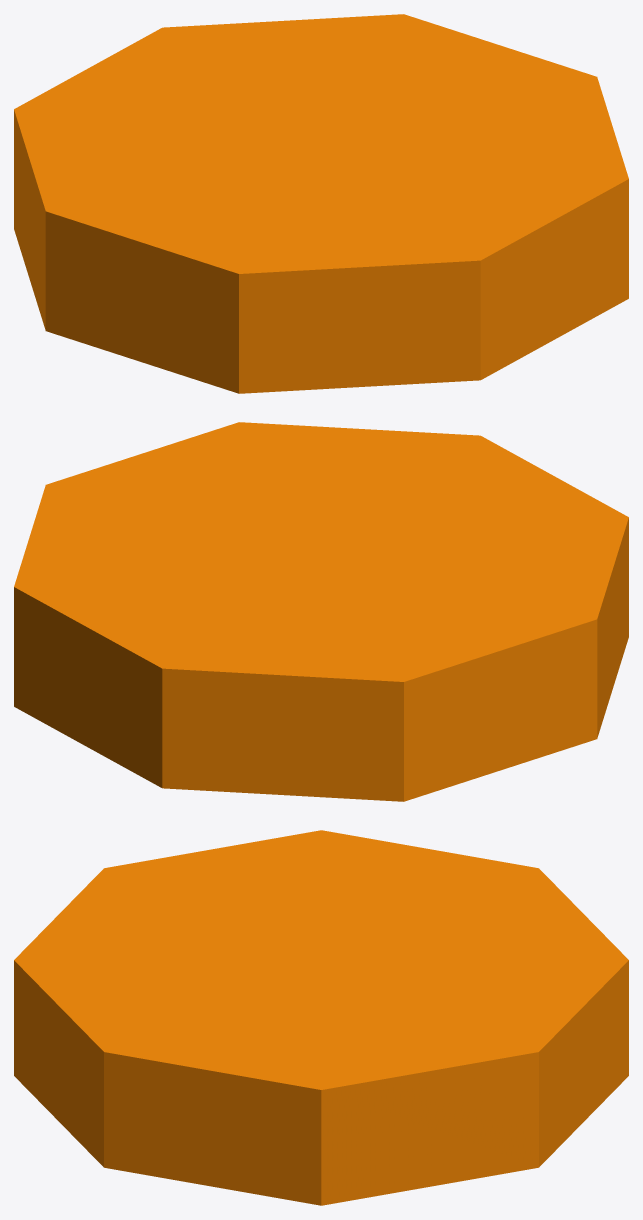
Rendered from carrot02.gltf.
The picture shows the model from 3 angles, top to bottom: view 1: azimuth 30°, elevation 25°; view 2: azimuth 150°, elevation 25°; view 3: azimuth 270°, elevation 25°; orthographic projection. The views are drawn at different scales.
Visible parts, largest first — view 1: Cylinder; view 2: Cylinder; view 3: Cylinder.
Part boxes in pixels (x1=…): Cylinder: x1=14, y1=14, x2=628, y2=393; Cylinder: x1=14, y1=422, x2=628, y2=801; Cylinder: x1=14, y1=830, x2=628, y2=1205.
Size of the model in its own units: 0.0322 by 0.00668 by 0.0322.
1 material, 1 textured.
